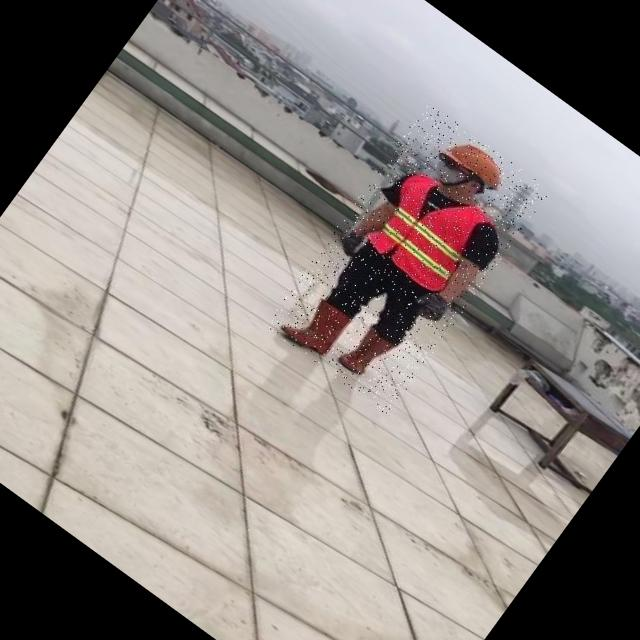hard_hat: (440, 131, 513, 195)
safety_vest: (361, 165, 493, 296)
vehicle: (264, 102, 550, 416)
work_boots: (278, 286, 356, 362), (336, 322, 396, 382)
